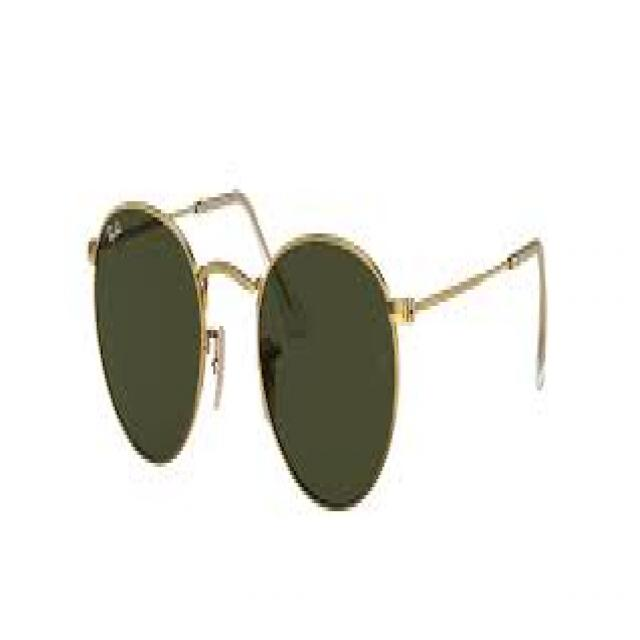suspicious-objects: (60, 155, 425, 517)
